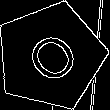O_SE: (17, 23, 84, 89)
